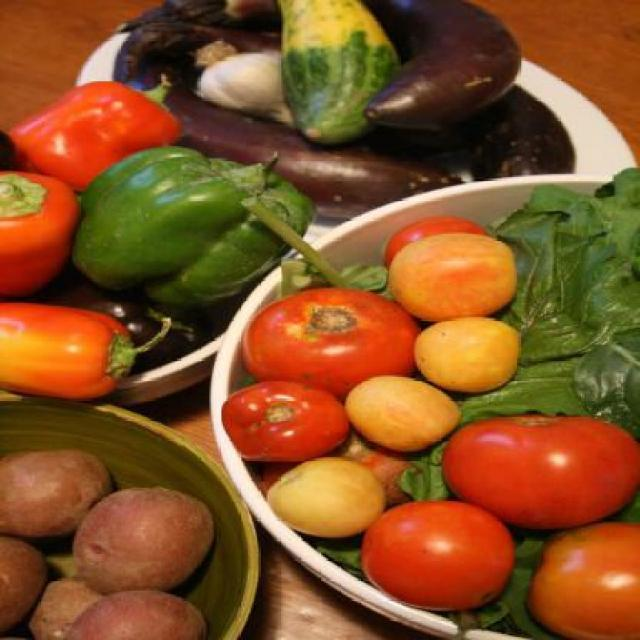Bell pepper: (71, 147, 318, 310), (5, 72, 181, 192), (0, 303, 178, 400), (0, 168, 77, 301)
